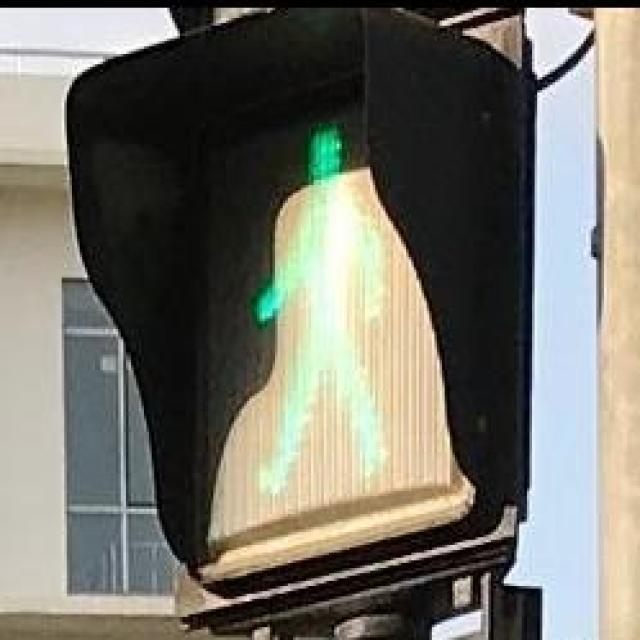green_light: (164, 103, 470, 529)
